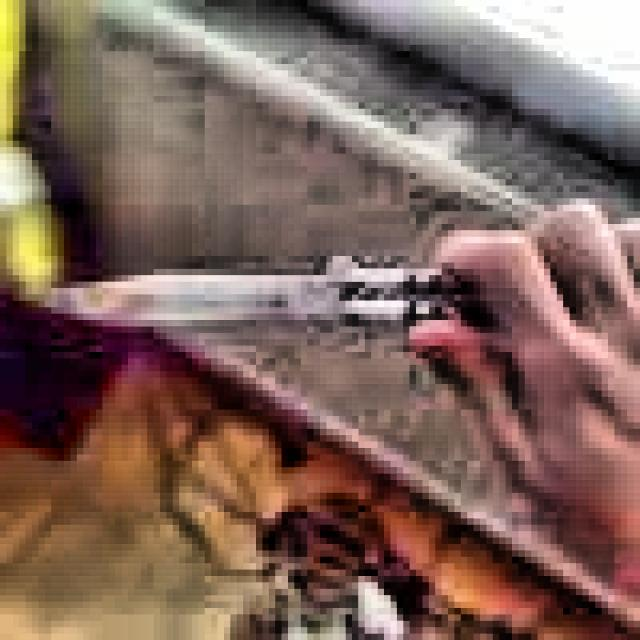knife: (41, 253, 490, 370)
